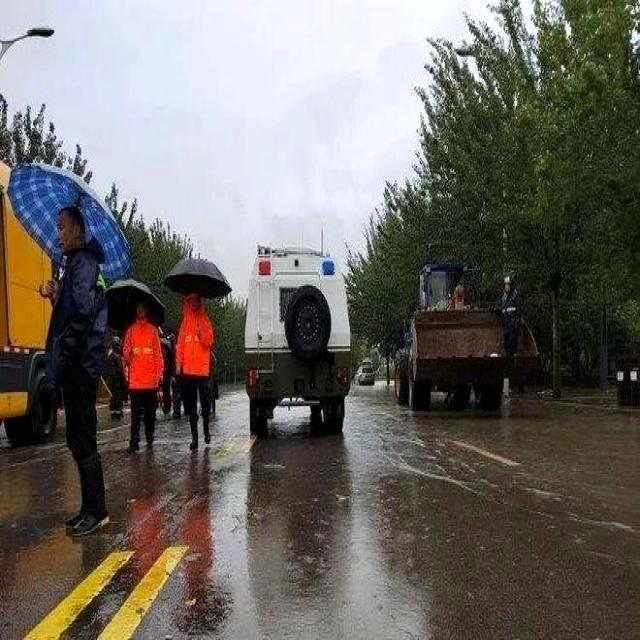civilian: (41, 205, 110, 554)
rescuer: (170, 284, 220, 452), (124, 289, 166, 454)
